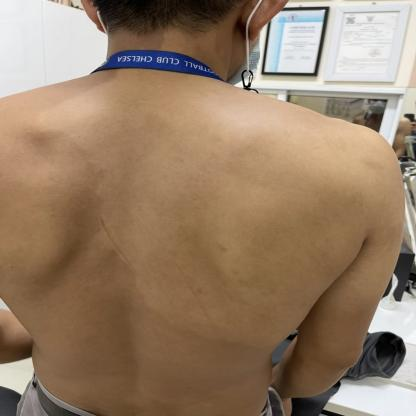Leprosy: (3, 128, 361, 362), (2, 101, 276, 358)
